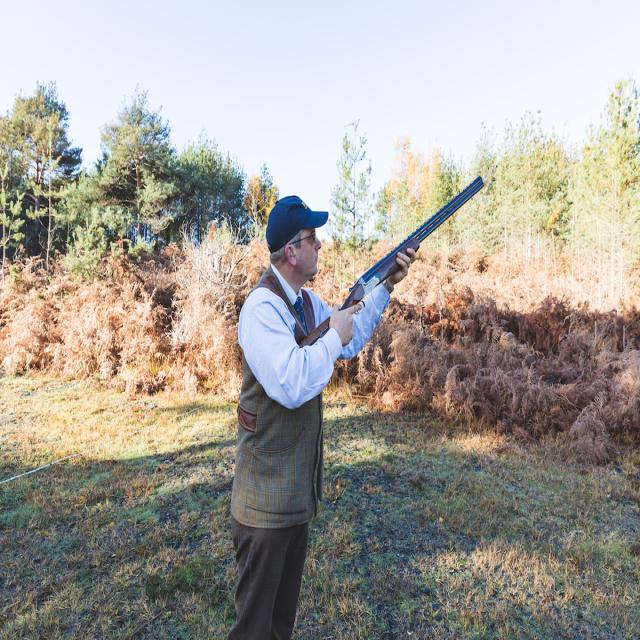ShotGun: (299, 177, 484, 346)
